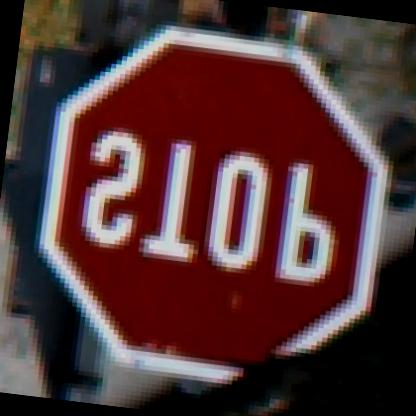stop: (20, 12, 414, 415)
